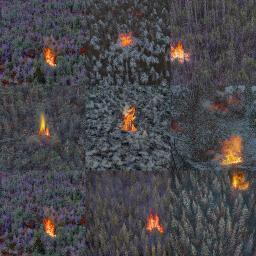Small fire: (215, 135, 248, 192), (121, 102, 144, 134), (143, 213, 169, 234), (38, 106, 53, 130), (170, 42, 189, 60), (116, 30, 134, 48), (43, 44, 58, 65), (44, 219, 56, 236)
